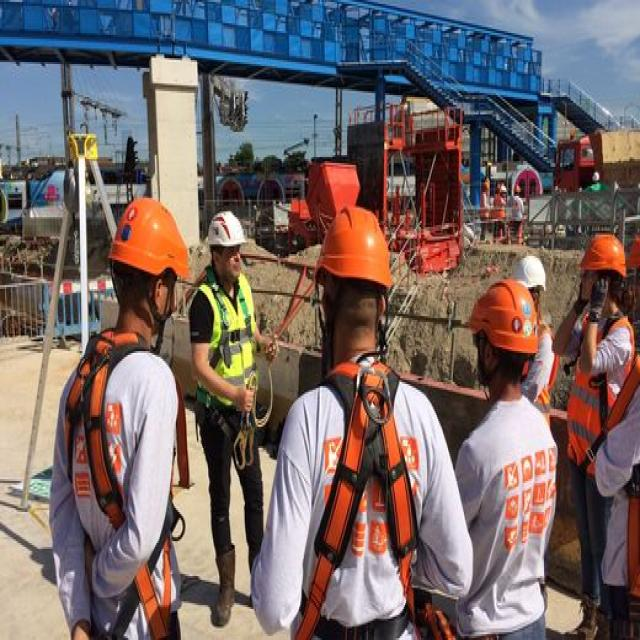secure person: (254, 208, 471, 613), (49, 198, 188, 640), (455, 281, 558, 640), (554, 235, 638, 640), (190, 209, 268, 626)
